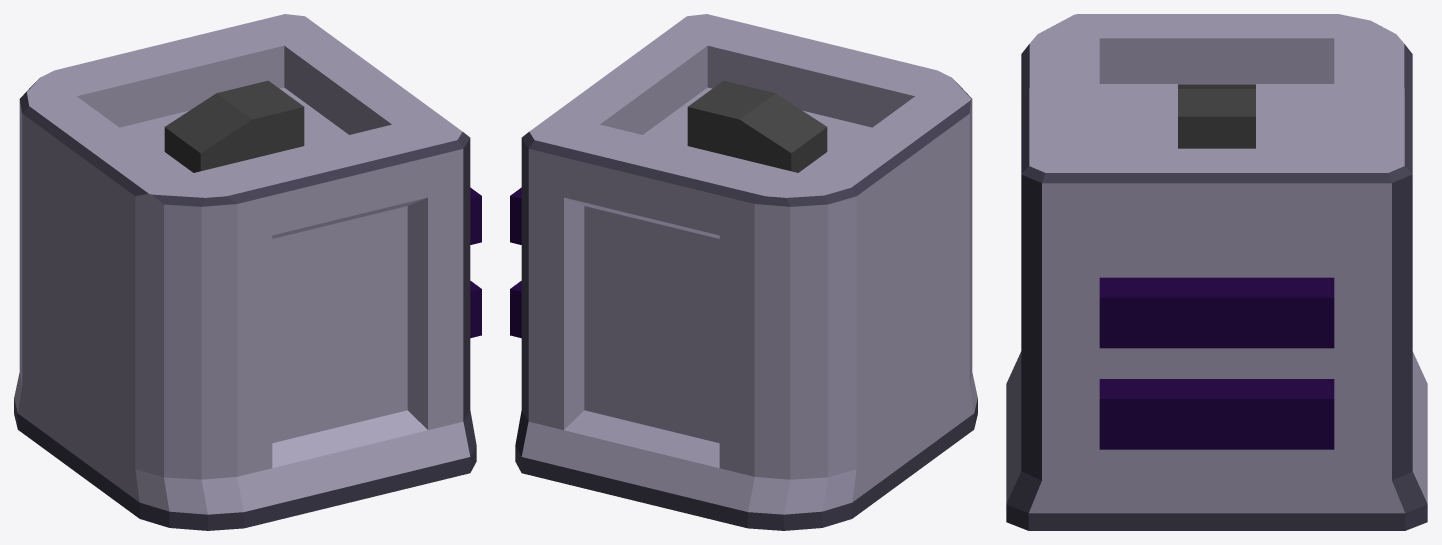
The model's file is As_Machine.fbx.
3 views of the same model, side by side, from view 1: azimuth 30°, elevation 25°; view 2: azimuth 150°, elevation 25°; view 3: azimuth 270°, elevation 25° (orthographic). The views are drawn at different scales.
Visible parts, largest first — view 1: Cube; view 2: Cube; view 3: Cube.
Part boxes in pixels (<box>): Cube: <box>14,14,481,530</box>; Cube: <box>510,14,977,530</box>; Cube: <box>1006,14,1427,530</box>.
Bounding box in the file's own units: 224 × 202 × 215.
